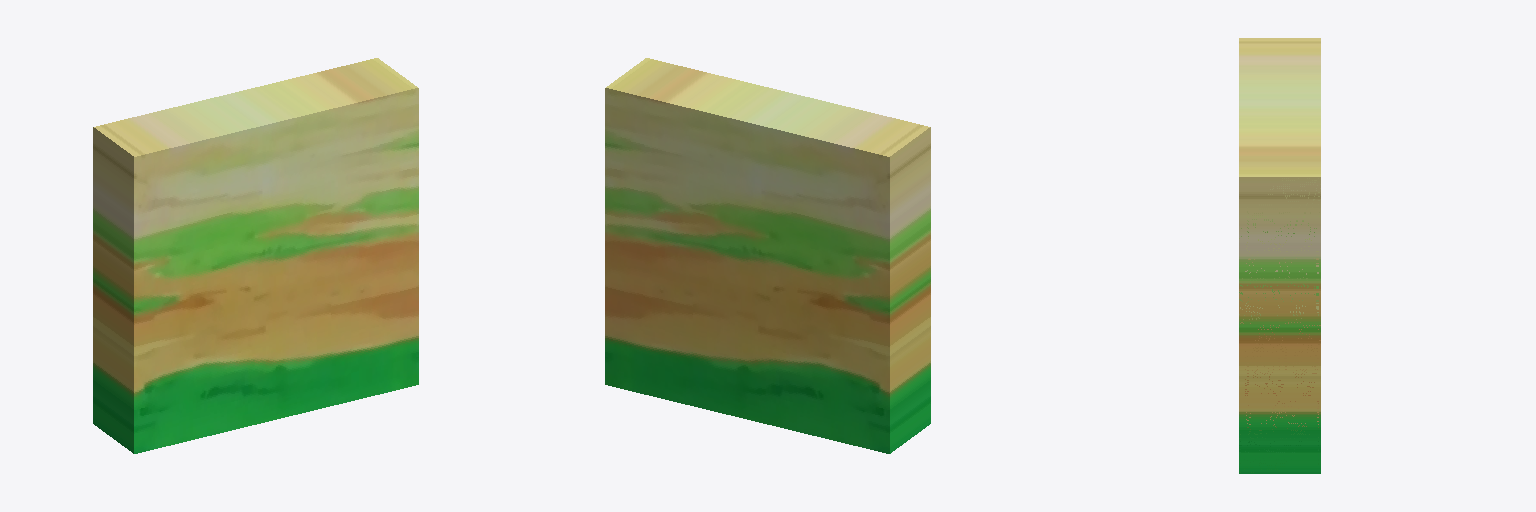
The picture shows the model from 3 angles: view 1: azimuth 30°, elevation 25°; view 2: azimuth 150°, elevation 25°; view 3: azimuth 270°, elevation 25°; orthographic projection.
Parts seen in each view (by area): view 1: Object.1; view 2: Object.1; view 3: Object.1.
Part boxes in pixels (bbox=[...]): Object.1: bbox=[93, 58, 418, 453]; Object.1: bbox=[605, 58, 930, 453]; Object.1: bbox=[1239, 38, 1320, 473].
Bounding box in the file's own units: 81.25 × 81.25 × 20.32.
1 materials, 1 textured.